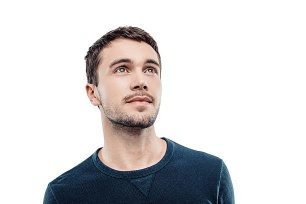male: (85, 39, 165, 134)
